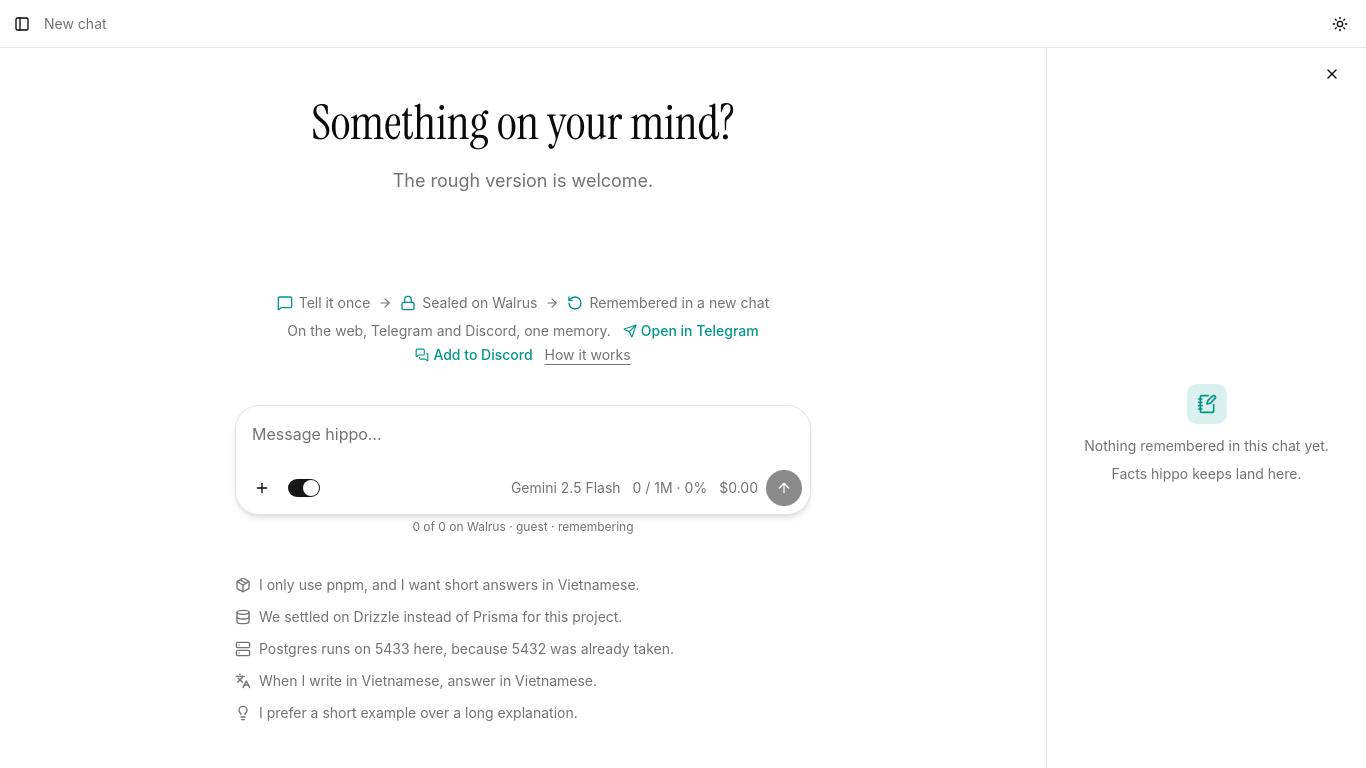
Test: chat page › shows no error on a new chat's first turn, then lists what it remembered
The image size is (1366, 768).
Step 1. Type "Postgres runs on 5433" into the text box with placeholder "Message hippo…" → (523, 438), box [236, 406, 810, 470]
Then press Enter
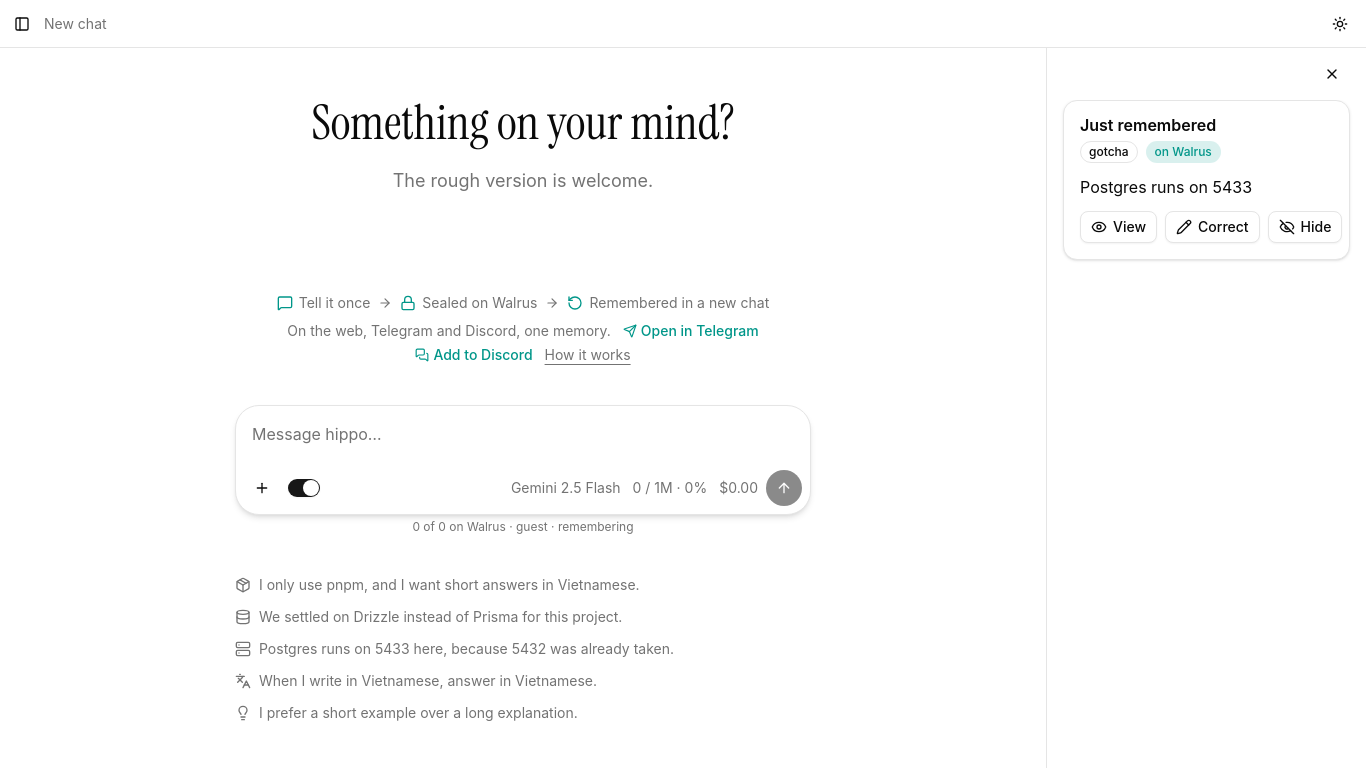
Check: the text "Postgres runs on 5433" is shown, box [1080, 177, 1252, 197]
